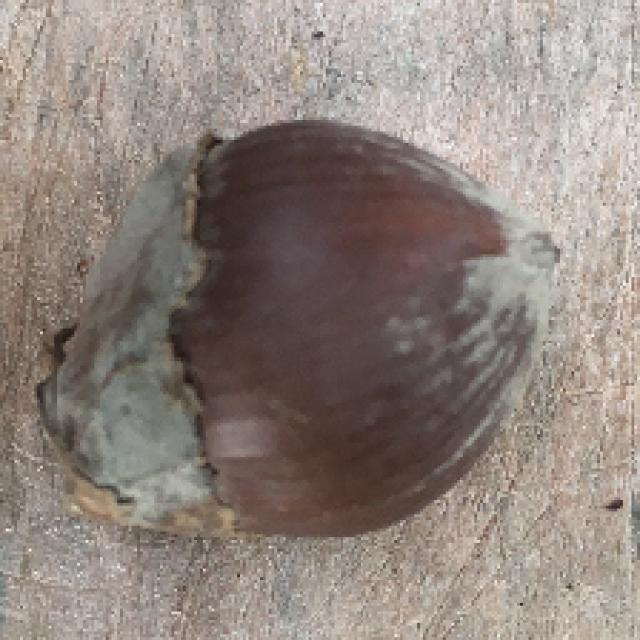DamagedHazelnut: (28, 121, 563, 540)
